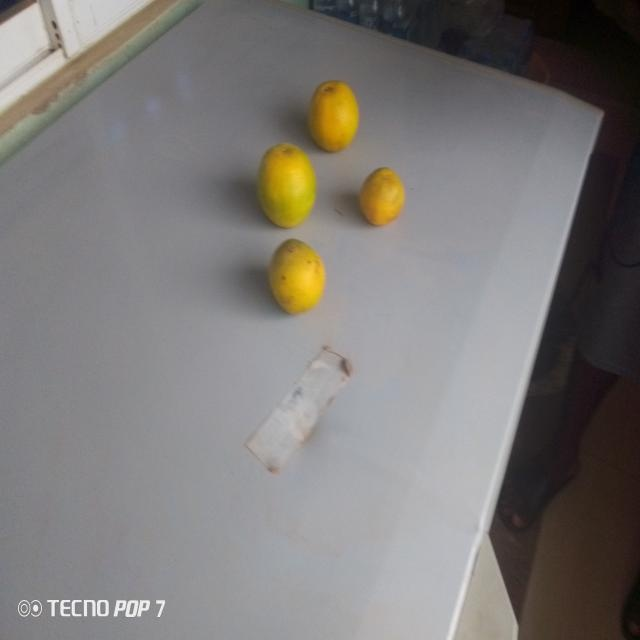agrume: (235, 135, 321, 225), (289, 61, 360, 153), (264, 242, 328, 325), (348, 162, 408, 231)
